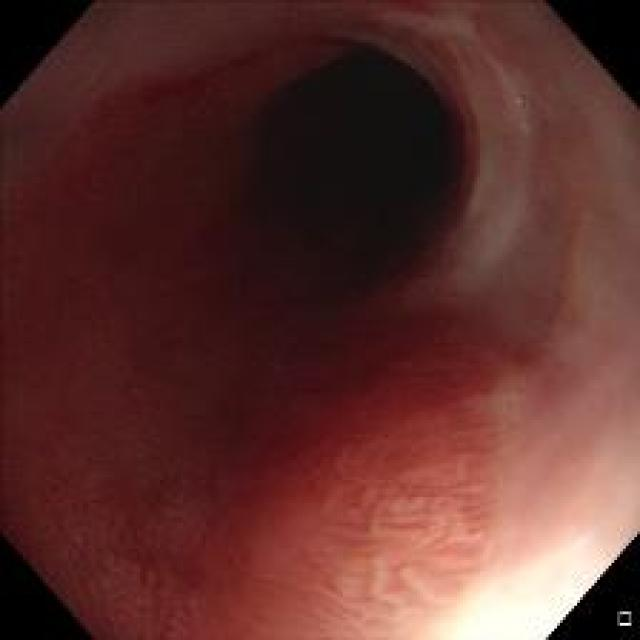color misalignment: (515, 91, 530, 138)
contrast: (176, 39, 495, 418)
saturation: (422, 548, 586, 625)
